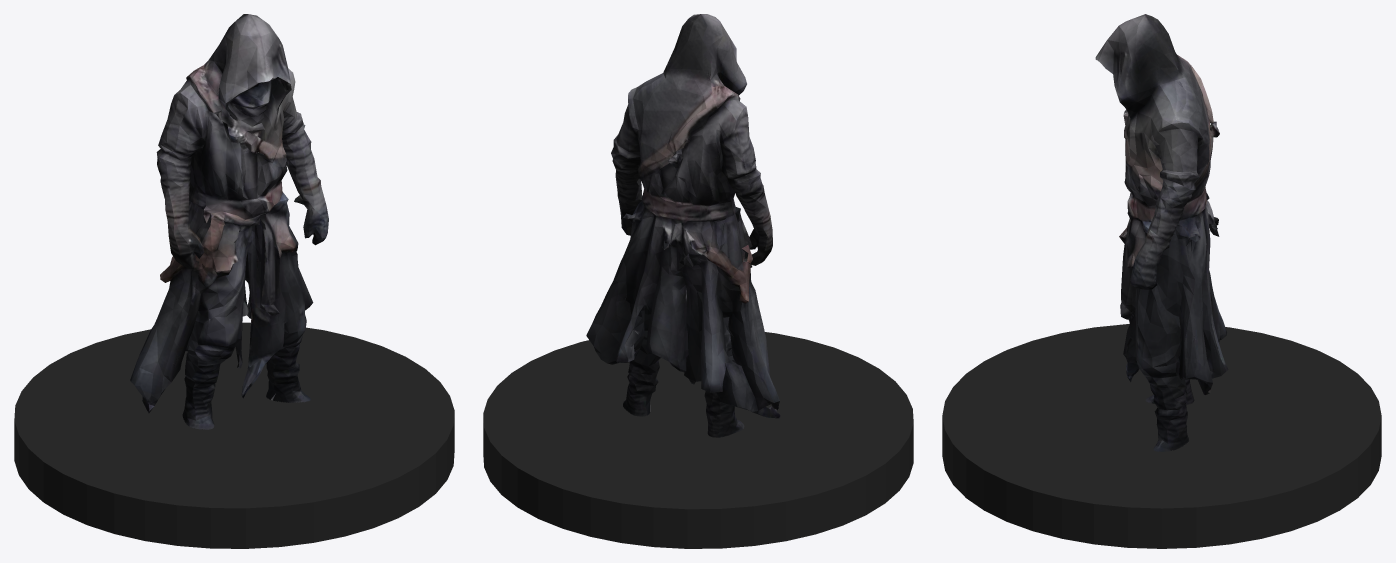
Rendered from mike-cho.glb.
The picture shows the model from 3 angles, left to right: view 1: azimuth 30°, elevation 25°; view 2: azimuth 150°, elevation 25°; view 3: azimuth 270°, elevation 25°; orthographic projection. The views are drawn at different scales.
Parts seen in each view (by area): view 1: base, figure; view 2: base, figure; view 3: base, figure.
Boxes of the visible parts, x1,y1,x2,y2 form: base: (14,322,454,548); figure: (130,14,328,429); base: (483,332,913,548); figure: (586,14,780,437); base: (942,324,1381,548); figure: (1095,14,1228,451).
Bounding box in the file's own units: 1.18 × 1.32 × 1.18.
2 materials, 1 textured.
